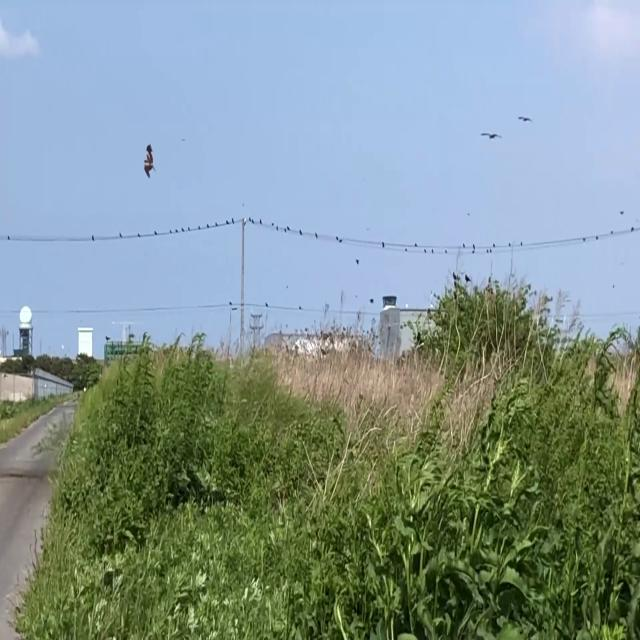bird: (144, 137, 154, 182), (481, 124, 500, 146), (518, 108, 531, 129), (336, 230, 342, 245)
